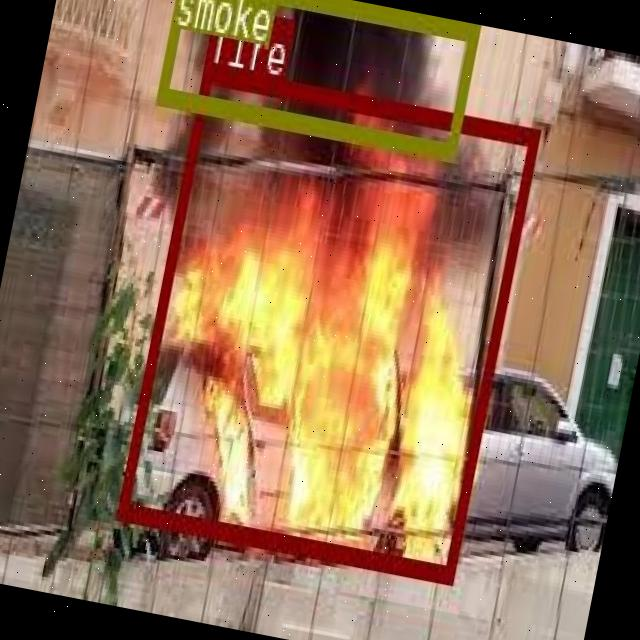fire: (116, 62, 539, 582)
smoke: (154, 0, 479, 155)
